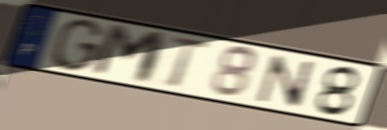8: (208, 45, 260, 101), (315, 65, 361, 117)
G: (47, 17, 106, 74)
M: (88, 21, 171, 88)
N: (255, 53, 316, 111)
T: (165, 35, 212, 90)
